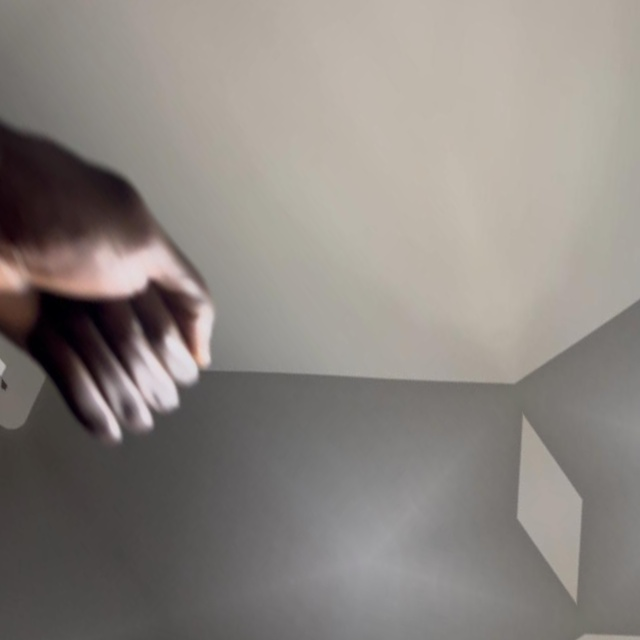Rock: (0, 78, 41, 584)
